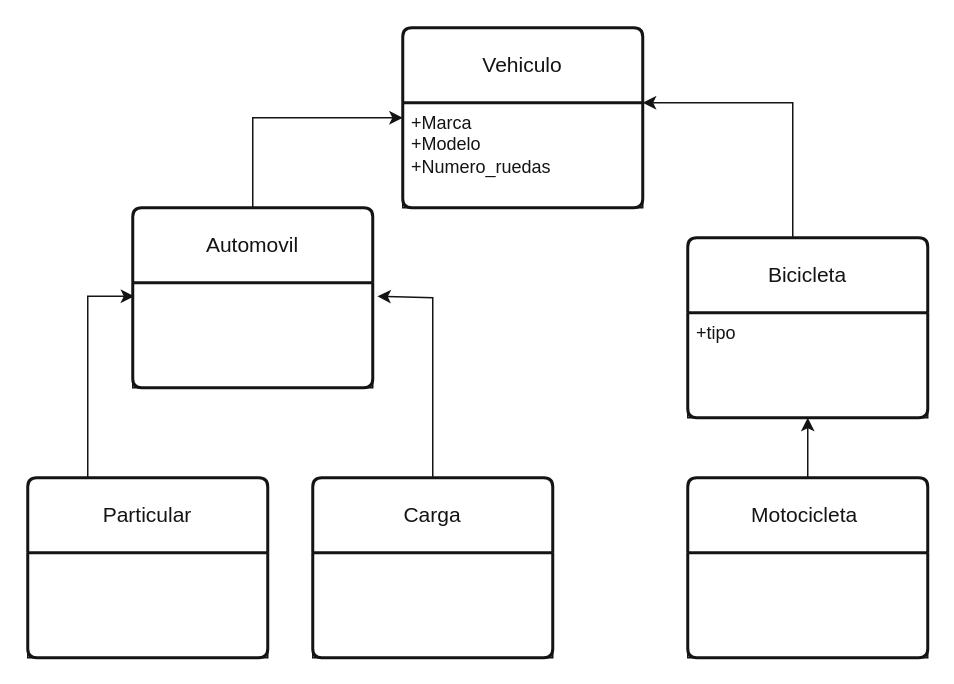
Image size: 954x684. Some labels were removed from this diagram. The shapes that lost their labels are listed below. From the top down, each one's centre as x and y in pixels, then its label:
the point at 252,334: +velocidad +cilindrada
the point at 147,604: +numero_puestos
the point at 432,604: +peso_carga
the point at 807,604: +nro_radios +cuadro +motor
